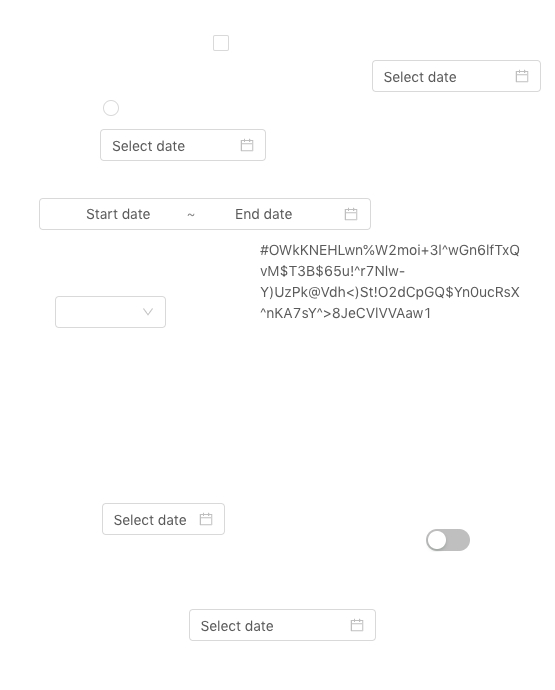Checkbox: (213, 32, 229, 53)
DatePicker: (189, 609, 376, 641), (372, 60, 541, 92), (100, 129, 266, 161), (102, 503, 225, 535)
Radio: (103, 97, 119, 117)
RangePicker: (39, 198, 404, 230)
Select: (55, 296, 166, 328)
Switch: (426, 528, 470, 552)
Text: (260, 239, 526, 334)
